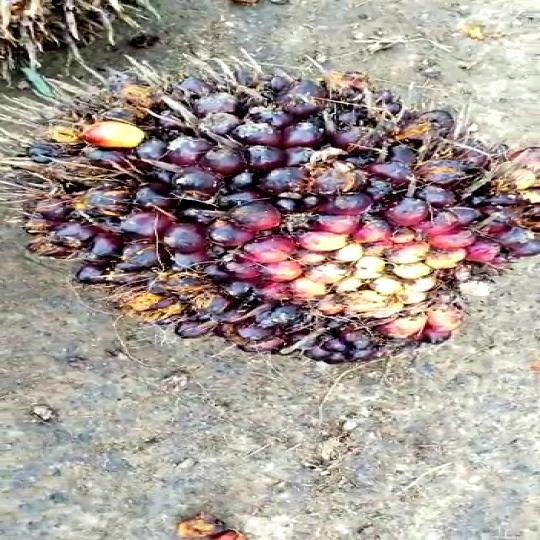masak: (0, 58, 540, 357)
